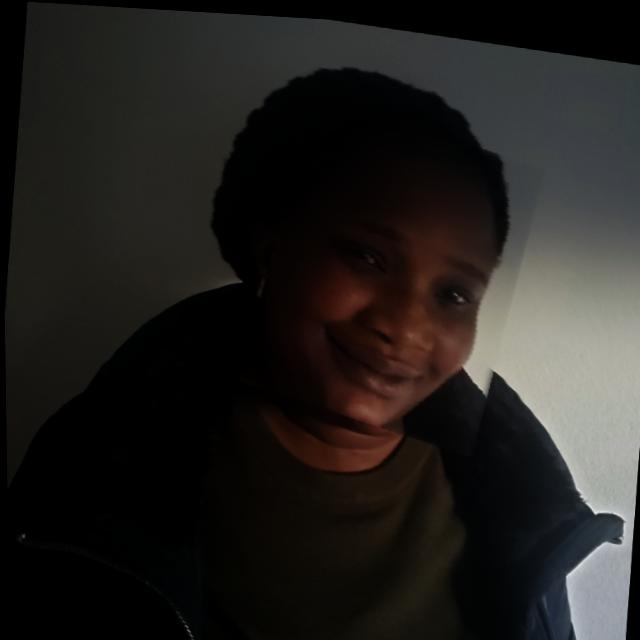happy: (243, 91, 538, 449)
